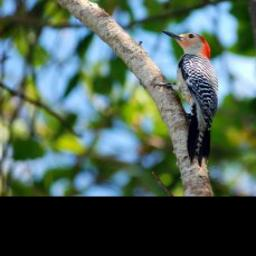Woodpecker: (151, 30, 218, 167)
